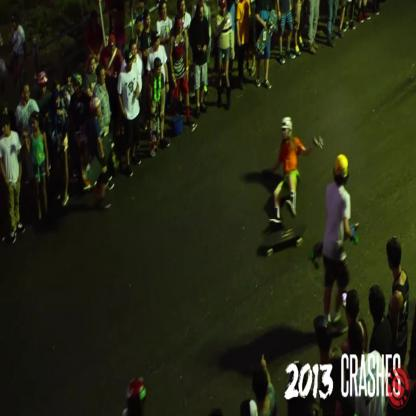Fall_Down: (262, 115, 326, 227)
